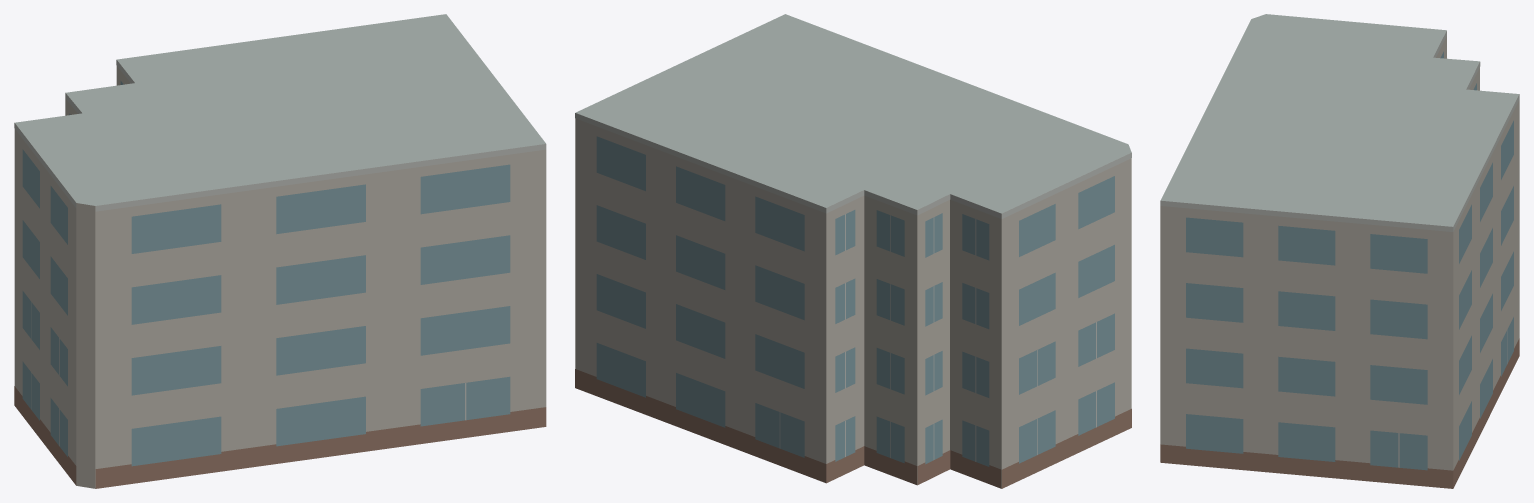
File: survey-upis-32499280.glb
3 views of the same model, side by side, from view 1: azimuth 30°, elevation 25°; view 2: azimuth 150°, elevation 25°; view 3: azimuth 270°, elevation 25° (orthographic). The views are drawn at different scales.
Parts seen in each view (by area): view 1: survey-upis-32499280.tmp; view 2: survey-upis-32499280.tmp; view 3: survey-upis-32499280.tmp.
Boxes of the visible parts, x1,y1,x2,y2 form: survey-upis-32499280.tmp: (14,14,546,488); survey-upis-32499280.tmp: (575,14,1131,488); survey-upis-32499280.tmp: (1160,14,1519,488).
Bounding box in the file's own units: 21.27 × 12.2 × 15.16.
